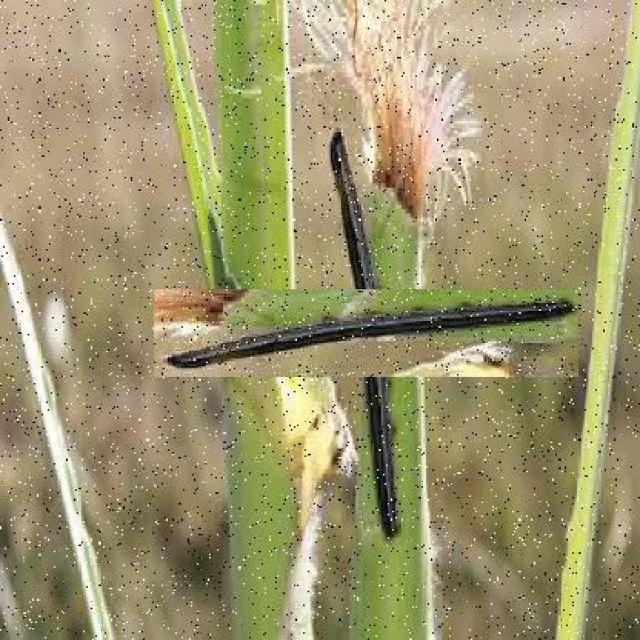Plaga: (238, 204, 496, 463)
